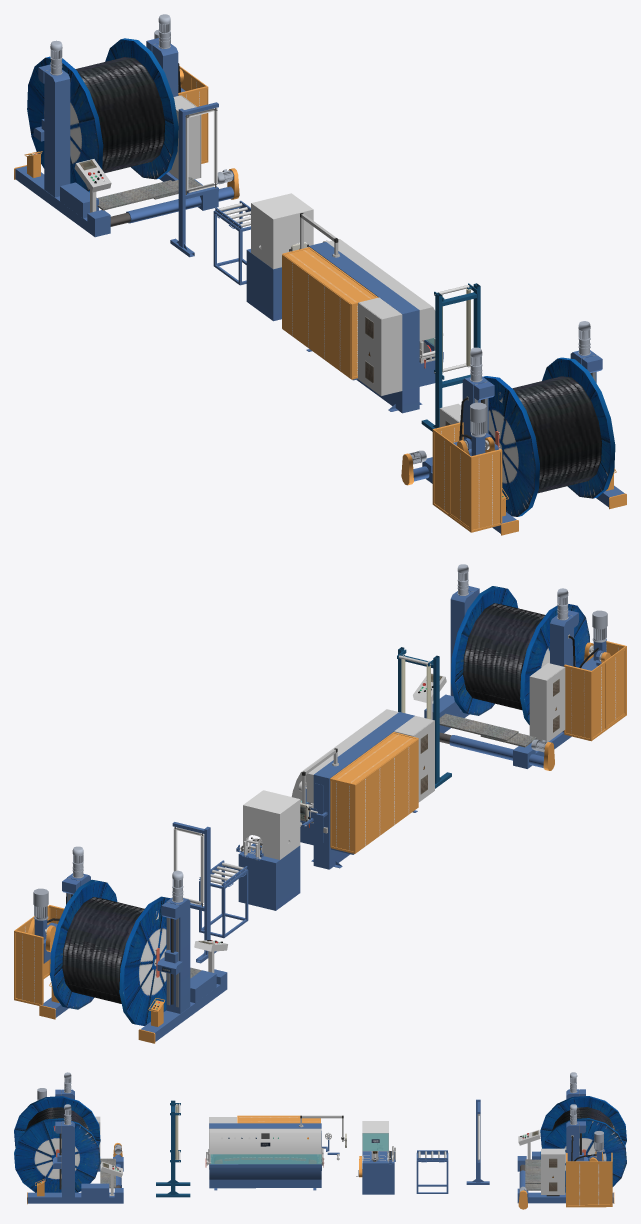
Rendered from cailanjishebei.FBX.
3 views of the same model, one above another, from view 1: azimuth 30°, elevation 25°; view 2: azimuth 150°, elevation 25°; view 3: azimuth 270°, elevation 25° (orthographic). The views are drawn at different scales.
Parts seen in each view (by area): view 1: CK-cailanji0001w-CJBZ; view 2: CK-cailanji0001w-CJBZ; view 3: CK-cailanji0001w-CJBZ.
Part boxes in pixels (<box>): CK-cailanji0001w-CJBZ: <box>14,14,626,535</box>; CK-cailanji0001w-CJBZ: <box>14,564,626,1043</box>; CK-cailanji0001w-CJBZ: <box>14,1072,626,1209</box>.
Size of the model in its own units: 3.76 by 3.16 by 18.12.
6 materials, 5 textured.
